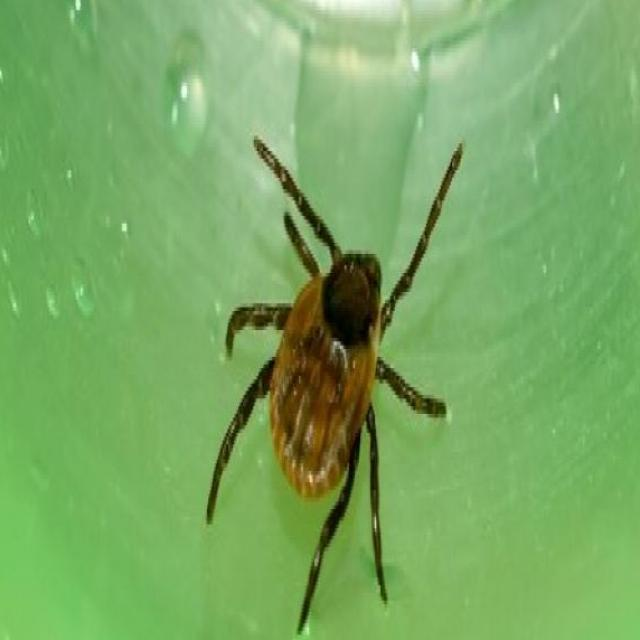Rhipicephalus Sanguineus-F: (210, 140, 461, 635)
